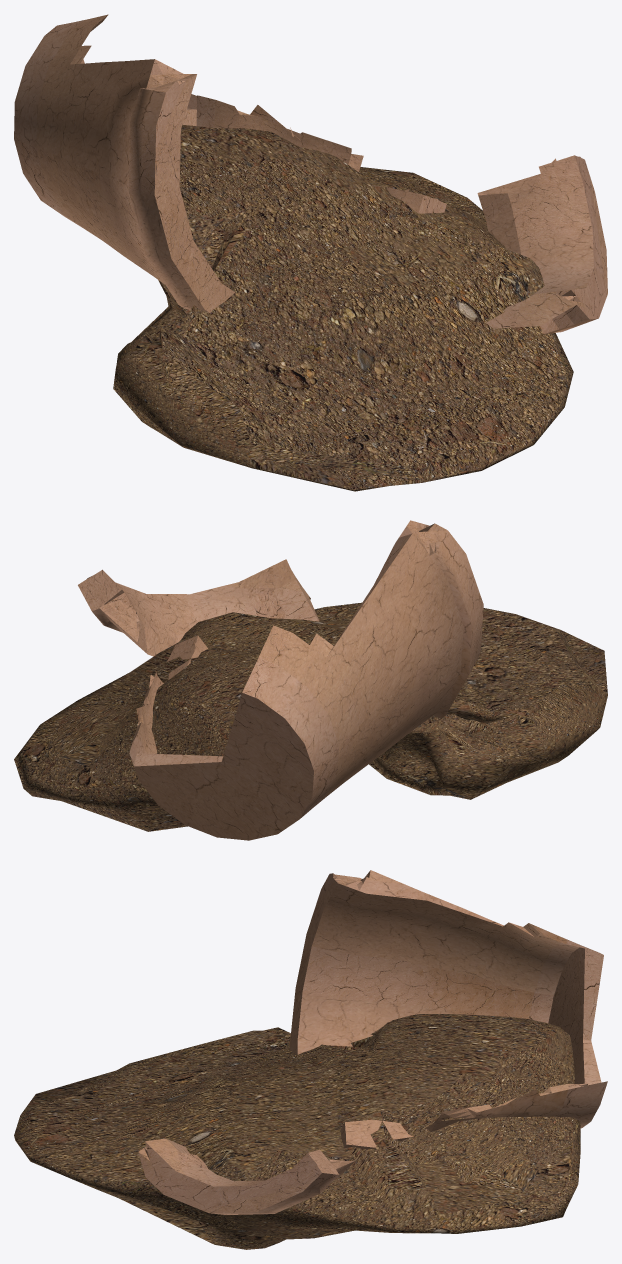
Rendered from Plant pot.FBX.
The picture shows the model from 3 angles, top to bottom: view 1: azimuth 30°, elevation 25°; view 2: azimuth 150°, elevation 25°; view 3: azimuth 270°, elevation 25°; orthographic projection. The views are drawn at different scales.
Visible parts, largest first — view 1: Sphere001, Cylinder001; view 2: Cylinder001, Sphere001; view 3: Sphere001, Cylinder001.
Part boxes in pixels (x1,y1,x2,y2): Sphere001: (113, 124, 573, 491); Cylinder001: (14, 14, 607, 334); Cylinder001: (78, 520, 483, 840); Sphere001: (14, 602, 607, 831); Sphere001: (14, 1014, 580, 1249); Cylinder001: (138, 870, 607, 1214).
Size of the model in its own units: 106 by 70.07 by 136.
2 materials, 2 textured.
